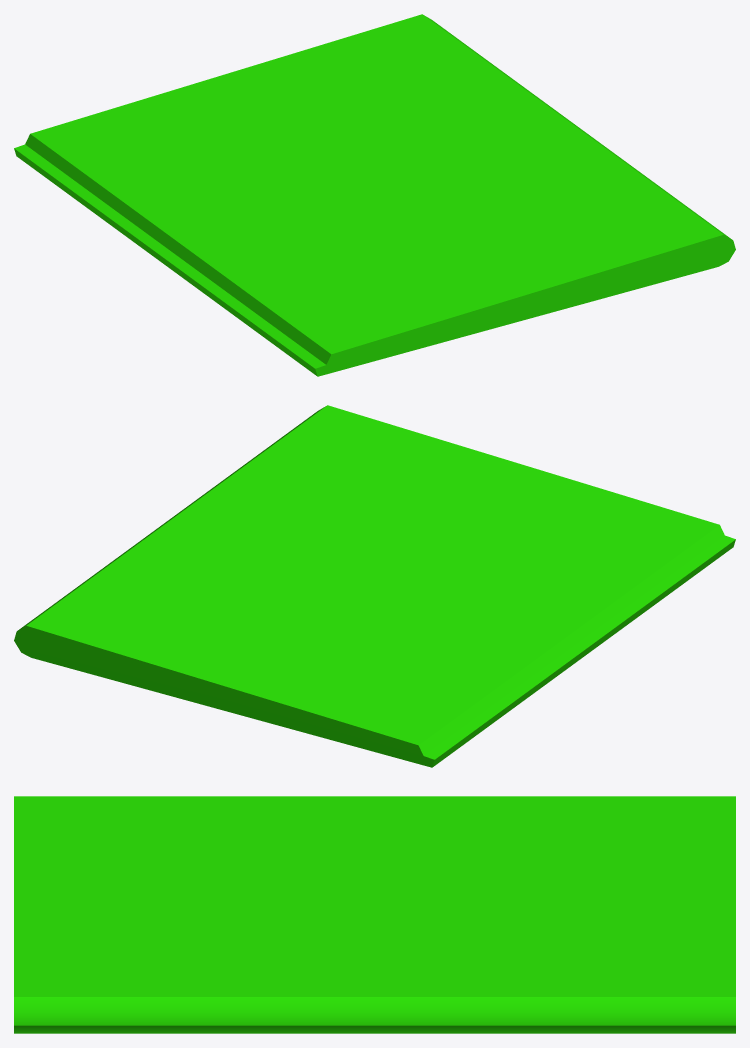
The model's file is NewsPaper_01_Lod0.fbx.
3 views of the same model, one above another, from view 1: azimuth 30°, elevation 25°; view 2: azimuth 150°, elevation 25°; view 3: azimuth 270°, elevation 25° (orthographic). The views are drawn at different scales.
Parts seen in each view (by area): view 1: NewsPaper_01_Lod0; view 2: NewsPaper_01_Lod0; view 3: NewsPaper_01_Lod0.
Part boxes in pixels (bbox=[...]): NewsPaper_01_Lod0: bbox=[14, 14, 735, 376]; NewsPaper_01_Lod0: bbox=[14, 405, 735, 767]; NewsPaper_01_Lod0: bbox=[14, 796, 735, 1033].
Size of the model in its own units: 25.32 by 2.47 by 31.41.
